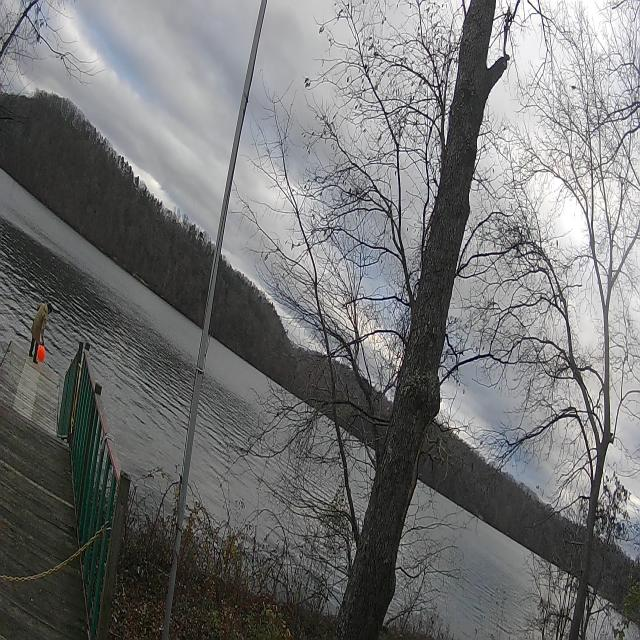Buoy: (36, 343, 46, 363)
